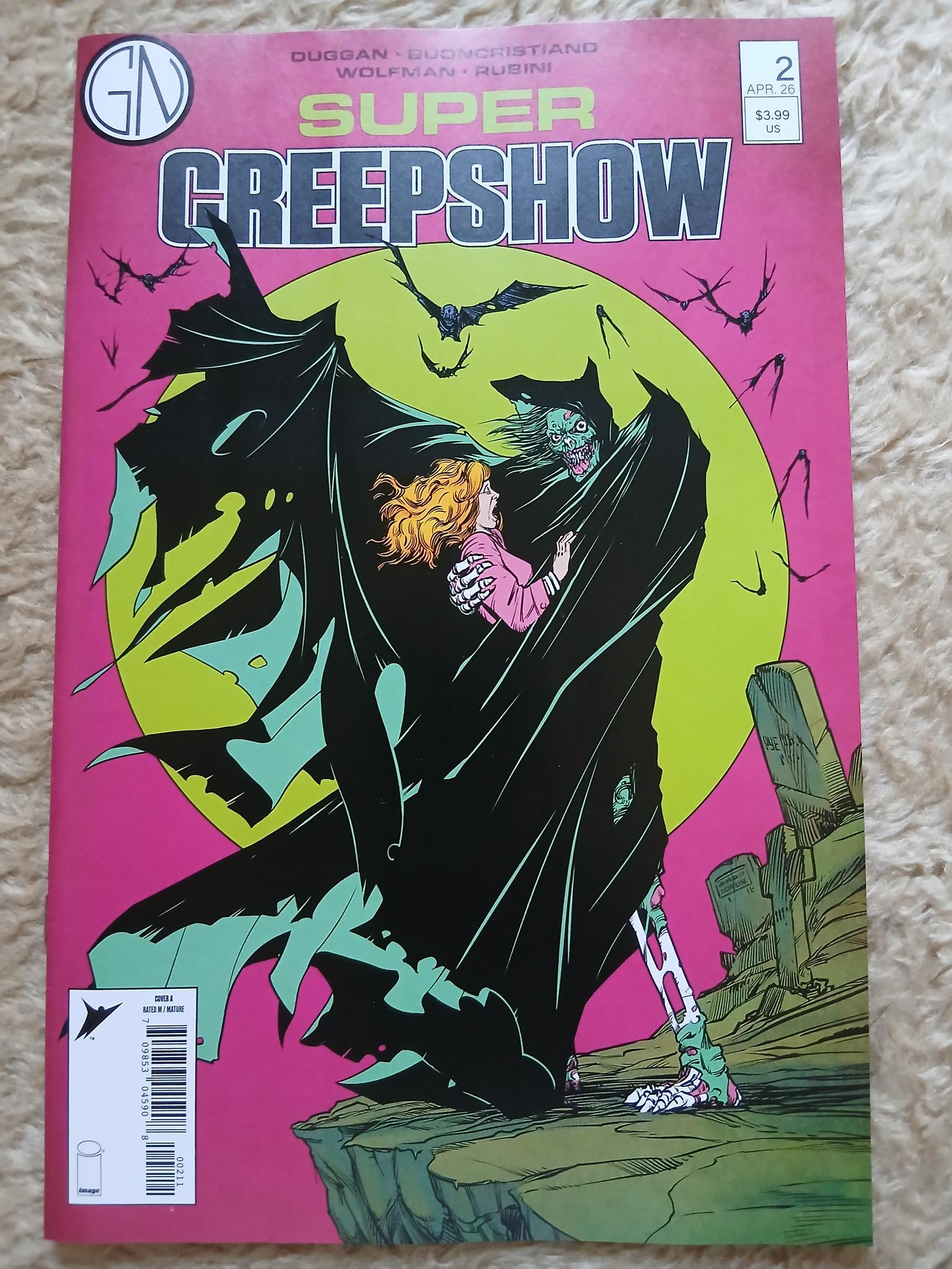comic: (38, 20, 870, 1249)
